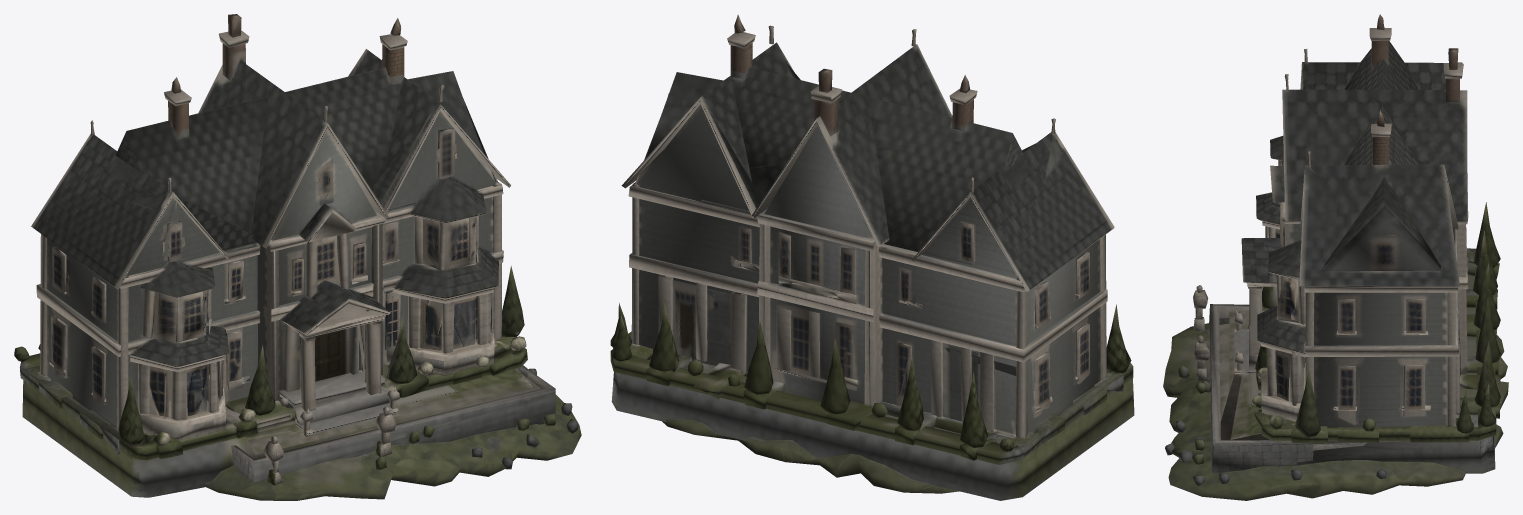
File: Meshy_AI_upper_house_3_texture_0921204814_texture.glb
The picture shows the model from 3 angles, left to right: view 1: azimuth 30°, elevation 25°; view 2: azimuth 150°, elevation 25°; view 3: azimuth 270°, elevation 25°; orthographic projection. The views are drawn at different scales.
Bounding box in the file's own units: 2 × 1.69 × 1.5.
Materials: 1 (1 with a texture image).
